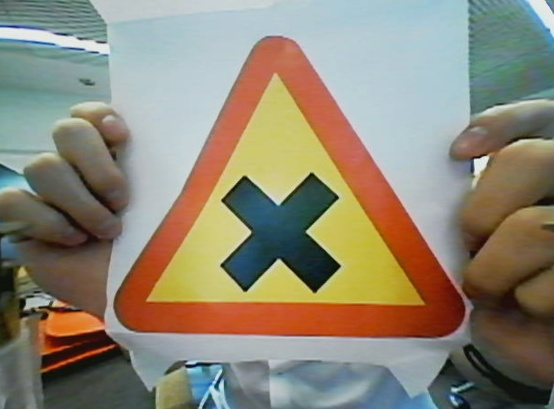junction: (113, 32, 473, 355)
